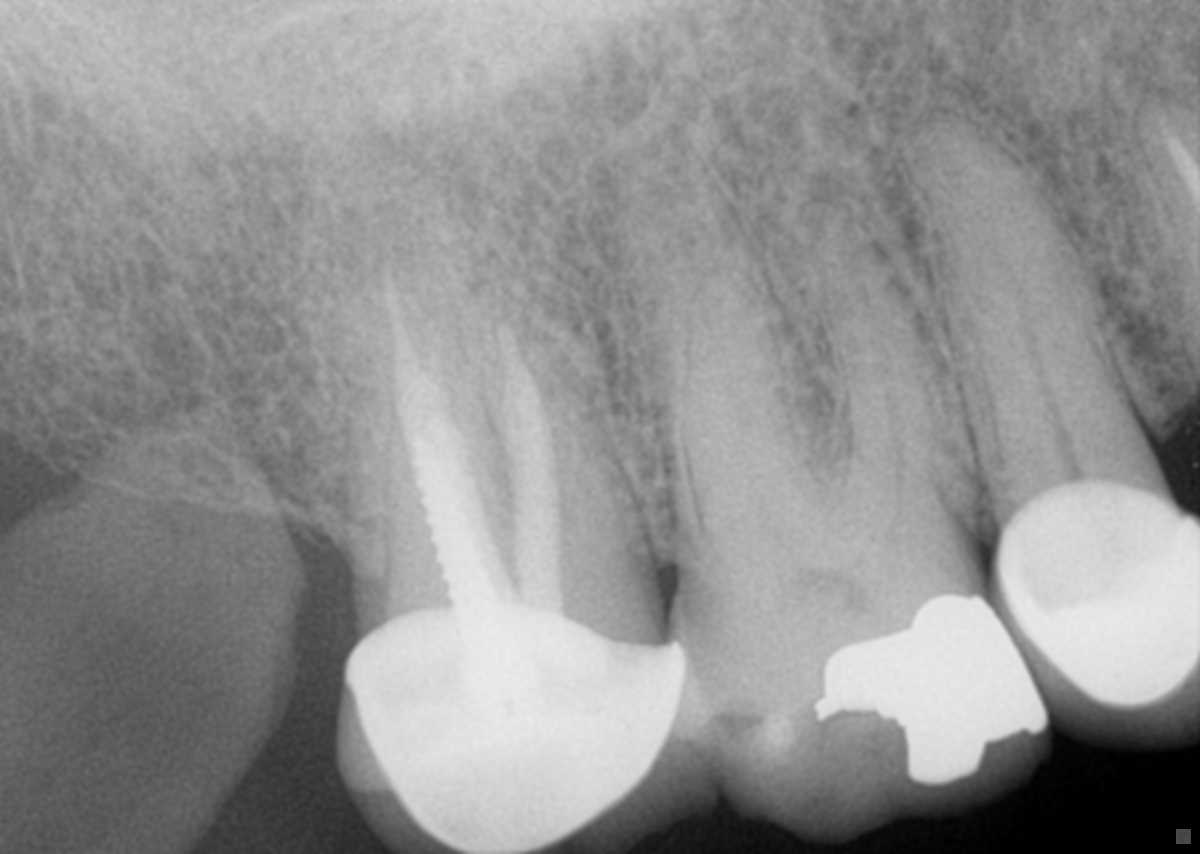Distal Root: (681, 270, 829, 536), (383, 345, 514, 573)
Main Canal: (975, 225, 1077, 474)
Main Root: (894, 104, 1163, 501)
Mesial Root: (802, 203, 980, 498), (468, 304, 652, 565)
Palatal Root: (615, 117, 878, 542), (343, 248, 521, 571)
Root Canal Filling: (496, 321, 559, 608), (381, 261, 449, 436)
